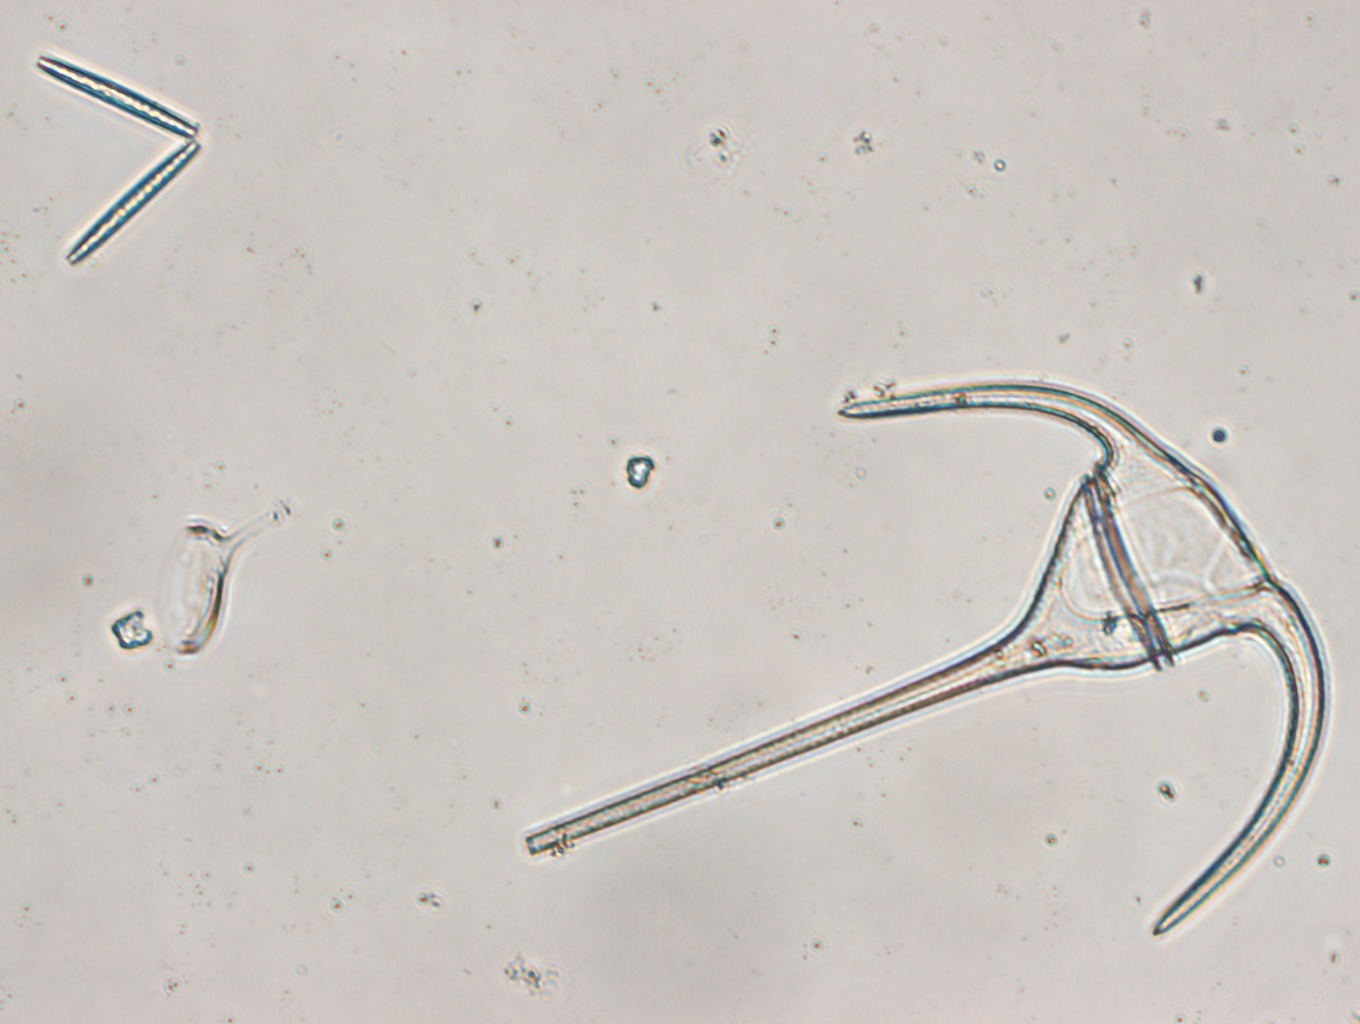ceratium trichoceros: (521, 375, 1336, 940)
thalassionema nitzschioides: (35, 52, 205, 267)
